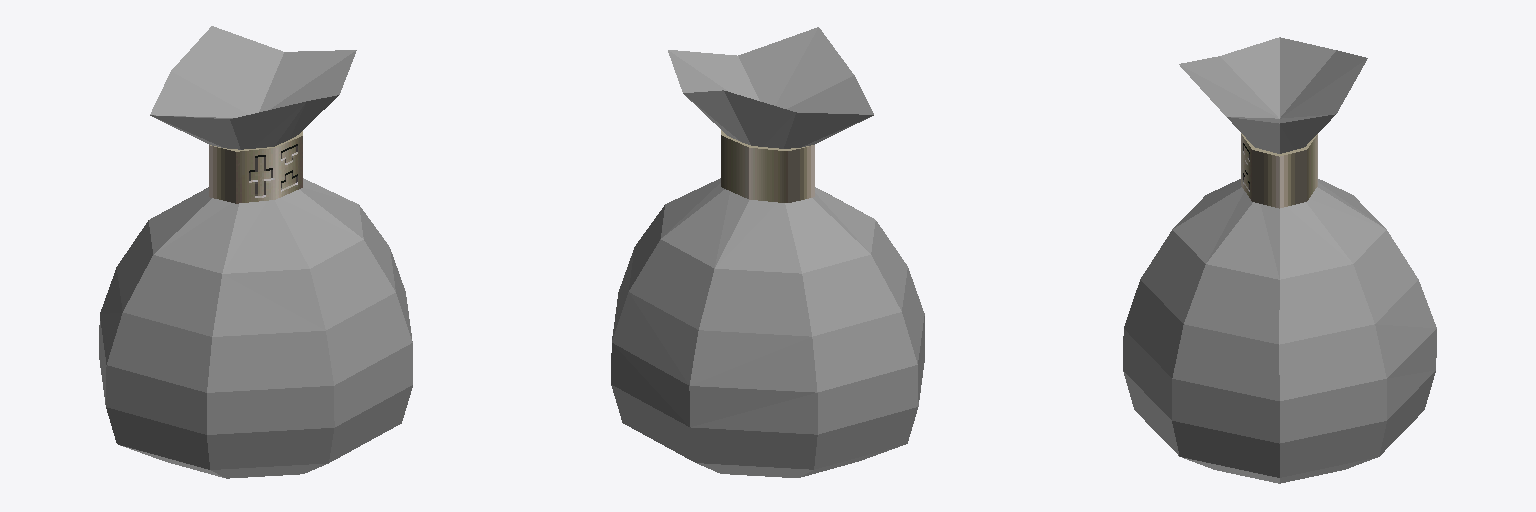
The picture shows the model from 3 angles: view 1: azimuth 30°, elevation 25°; view 2: azimuth 150°, elevation 25°; view 3: azimuth 270°, elevation 25°; orthographic projection.
Parts seen in each view (by area): view 1: bigbag_pouch_geom-001BB715, bigbag_ring_geom-00F96FC5; view 2: bigbag_pouch_geom-001BB715, bigbag_ring_geom-00F96FC5; view 3: bigbag_pouch_geom-001BB715, bigbag_ring_geom-00F96FC5.
Part boxes in pixels (x1,y1,x2,y2): bigbag_pouch_geom-001BB715: (99,26,412,478); bigbag_ring_geom-00F96FC5: (209,131,302,203); bigbag_pouch_geom-001BB715: (611,27,924,477); bigbag_ring_geom-00F96FC5: (721,130,814,202); bigbag_pouch_geom-001BB715: (1123,37,1436,483); bigbag_ring_geom-00F96FC5: (1241,133,1317,208).
Size of the model in its own units: 0.5128 by 0.6449 by 0.464.
Materials: 2 (1 with a texture image).